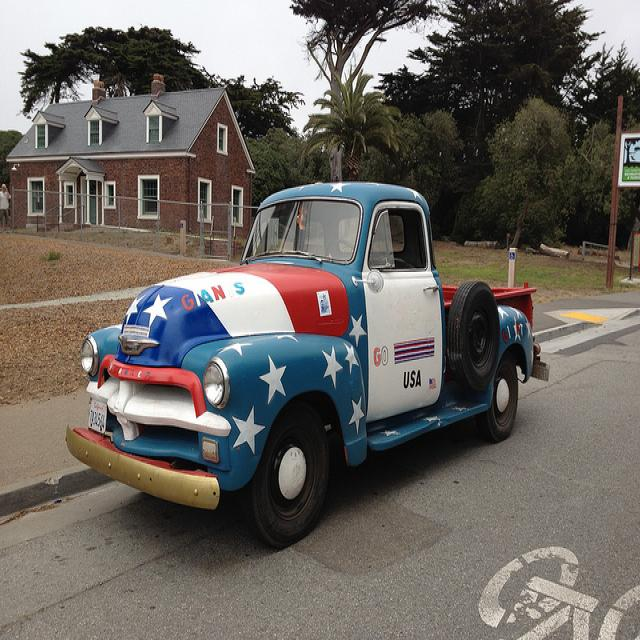Vehicle: (64, 180, 551, 551)
